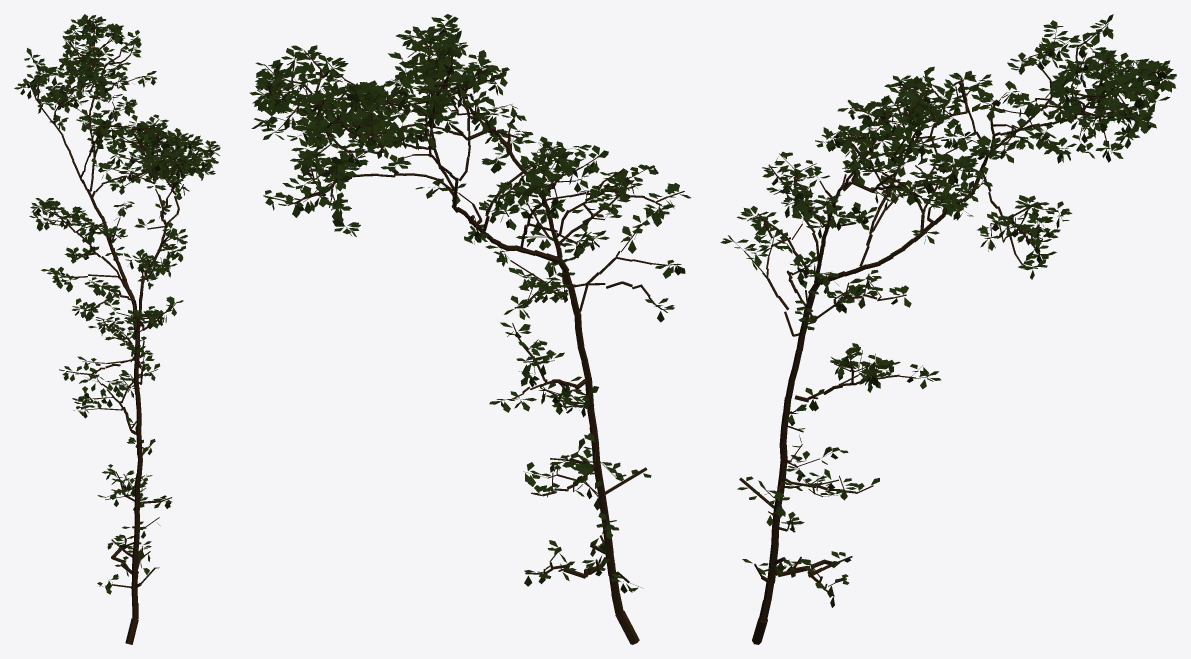
File: 2022_tree_398.obj
The picture shows the model from 3 angles, left to right: view 1: azimuth 30°, elevation 25°; view 2: azimuth 150°, elevation 25°; view 3: azimuth 270°, elevation 25°; orthographic projection. The views are drawn at different scales.
Visible parts, largest first — view 1: Leaves, TrunkAndBranches; view 2: Leaves, TrunkAndBranches; view 3: Leaves, TrunkAndBranches.
Part boxes in pixels (<box>): Leaves: <box>14,14,220,594</box>; TrunkAndBranches: <box>21,18,213,644</box>; Leaves: <box>249,14,690,593</box>; TrunkAndBranches: <box>257,22,684,644</box>; Leaves: <box>720,14,1176,607</box>; TrunkAndBranches: <box>735,23,1165,644</box>.
Bounding box in the file's own units: 7.06 × 15.55 × 9.79.
